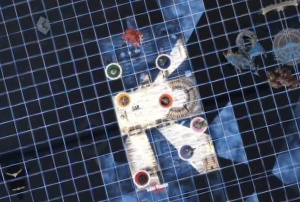blue: (152, 51, 172, 73)
green: (101, 58, 125, 83)
orange: (154, 91, 175, 110)
pink: (184, 112, 210, 137)
red: (130, 167, 153, 189)
violet: (175, 141, 195, 160)
yellow: (111, 88, 131, 109)
